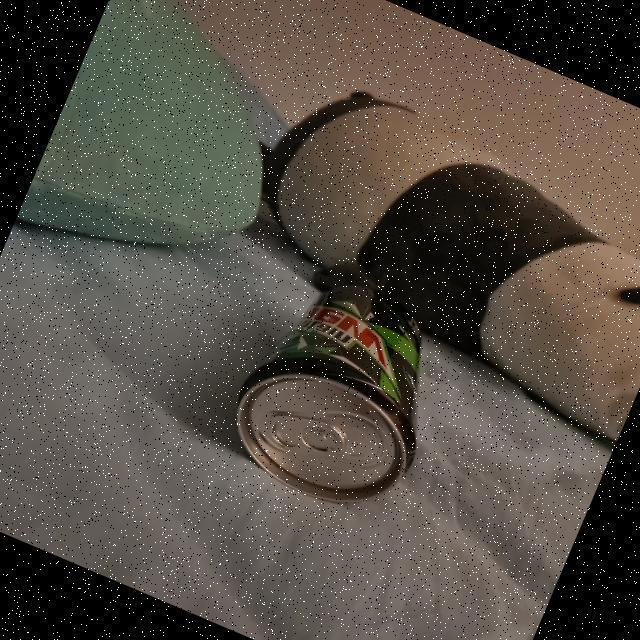debris: (203, 246, 474, 536)
